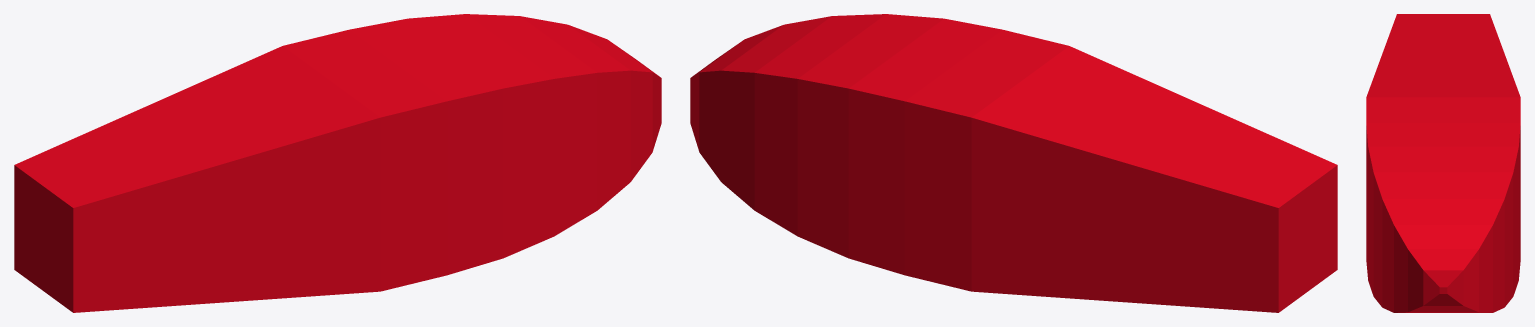
The model's file is ammo1.fbx.
3 renders of one model, left to right at view 1: azimuth 30°, elevation 25°; view 2: azimuth 150°, elevation 25°; view 3: azimuth 270°, elevation 25°, orthographic. The views are drawn at different scales.
Parts seen in each view (by area): view 1: ammo; view 2: ammo; view 3: ammo.
Boxes of the visible parts, box(x1,y1,x2,y2) form: ammo: box(14, 14, 661, 312); ammo: box(690, 14, 1337, 312); ammo: box(1366, 14, 1520, 312).
Size of the model in its own units: 227 by 61.6 by 62.82.
